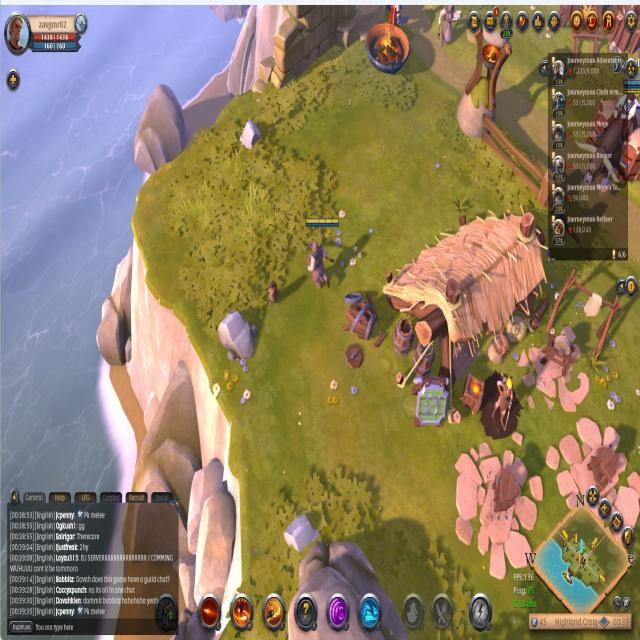stone: (212, 306, 260, 364), (281, 508, 322, 558), (236, 115, 262, 154)
